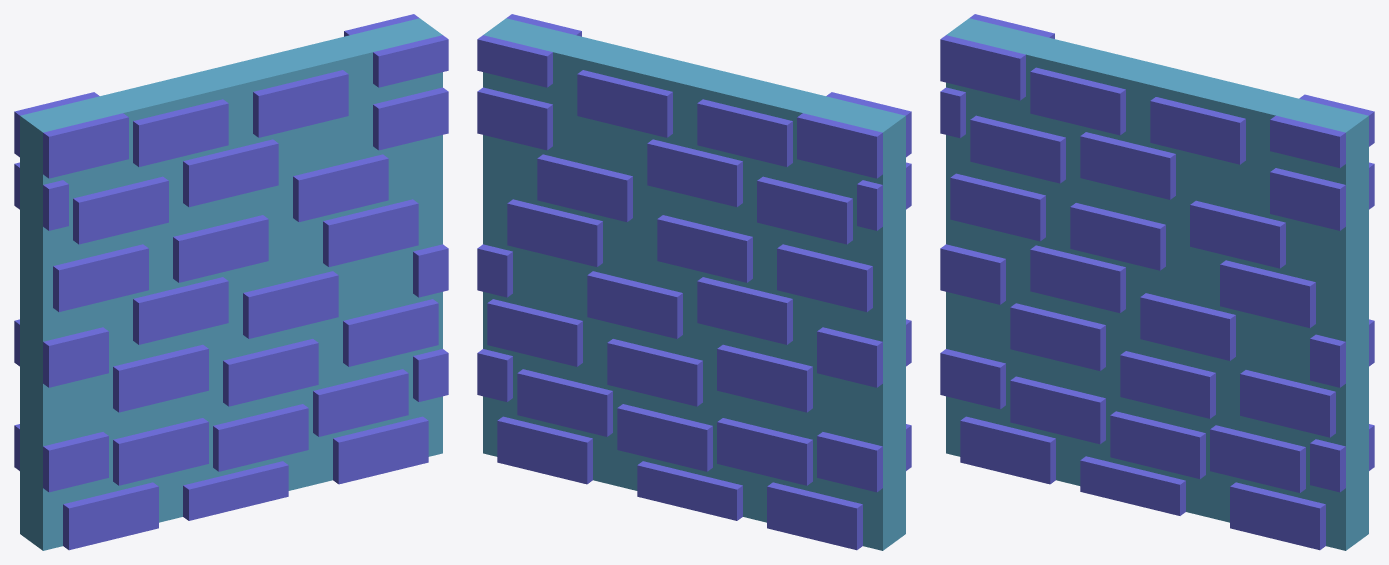
The model's file is wall_norm.obj.
The picture shows the model from 3 angles, left to right: view 1: azimuth 30°, elevation 25°; view 2: azimuth 150°, elevation 25°; view 3: azimuth 330°, elevation 25°; orthographic projection.
Bounding box in the file's own units: 4 × 4 × 0.6.
1 material, 1 textured.
